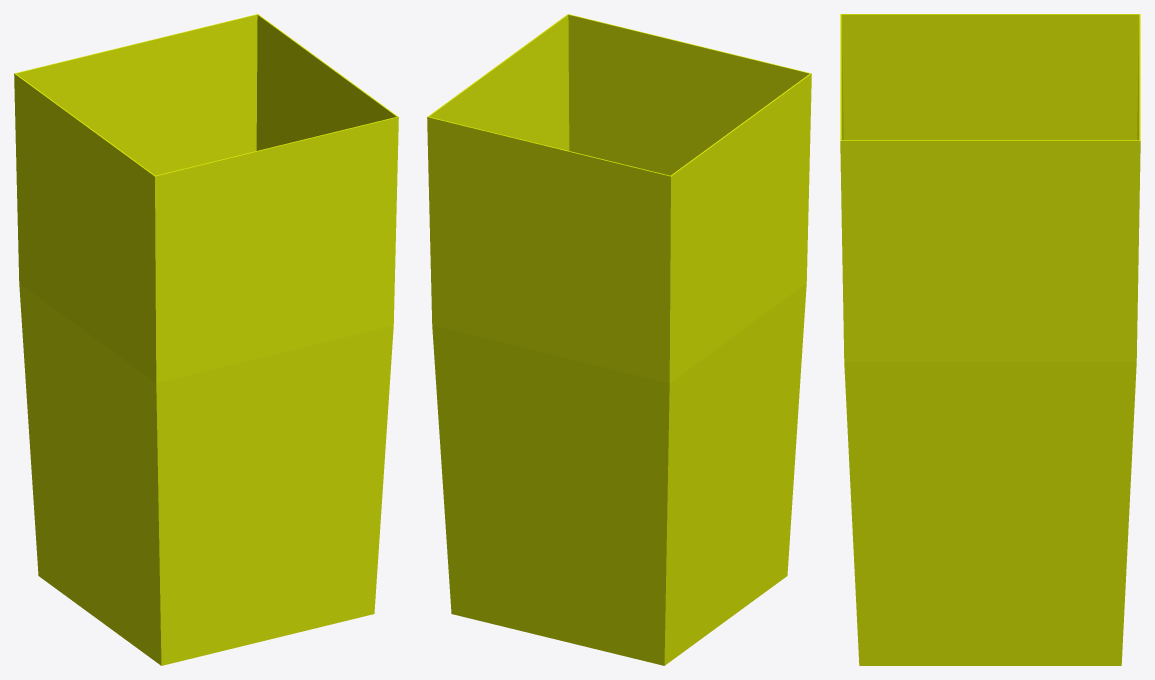
Rendered from cup.dae.
The picture shows the model from 3 angles, left to right: view 1: azimuth 30°, elevation 25°; view 2: azimuth 150°, elevation 25°; view 3: azimuth 270°, elevation 25°; orthographic projection. The views are drawn at different scales.
Parts seen in each view (by area): view 1: Plane; view 2: Plane; view 3: Plane.
Boxes of the visible parts, <box> form: Plane: <box>14,14,398,665</box>; Plane: <box>427,14,811,665</box>; Plane: <box>840,14,1140,665</box>.
Bounding box in the file's own units: 0.0852 × 0.0852 × 0.1668.
